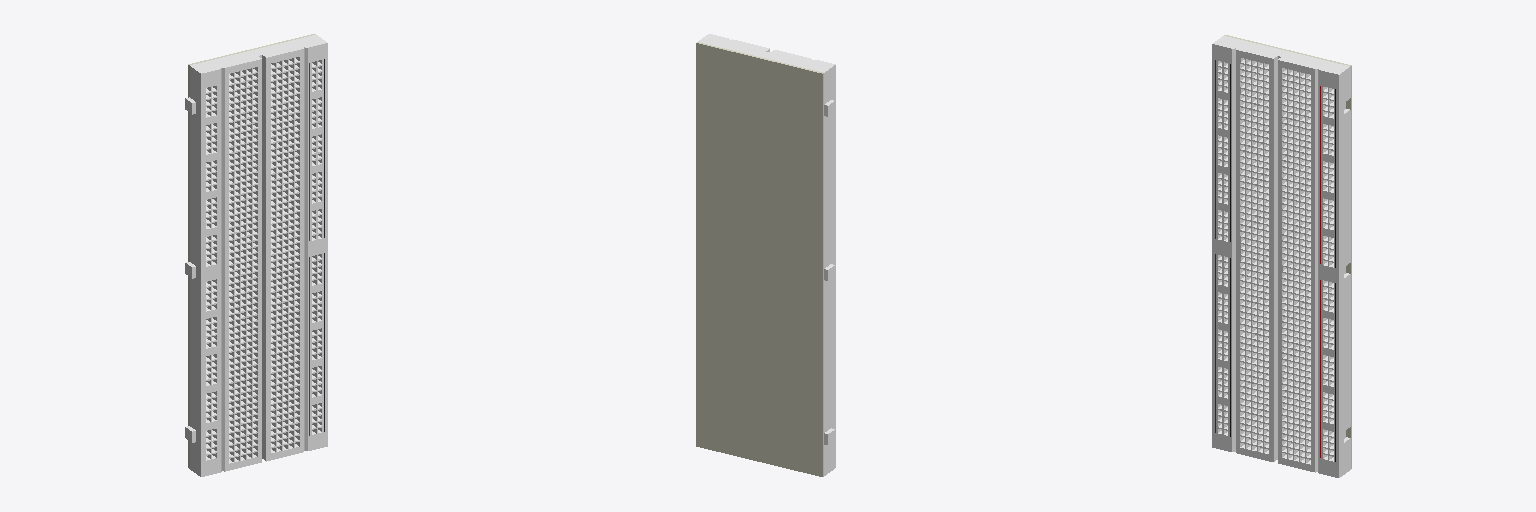
The model's file is tinker.obj.
3 renders of one model, left to right at view 1: azimuth 30°, elevation 25°; view 2: azimuth 150°, elevation 25°; view 3: azimuth 330°, elevation 25°, orthographic.
Visible parts, largest first — view 1: obj_0; view 2: obj_0; view 3: obj_0.
Boxes of the visible parts, x1,y1,x2,y2 form: obj_0: [185, 34, 327, 476]; obj_0: [696, 34, 835, 476]; obj_0: [1212, 35, 1351, 477].
Bounding box in the file's own units: 56.04 × 165 × 9.5.